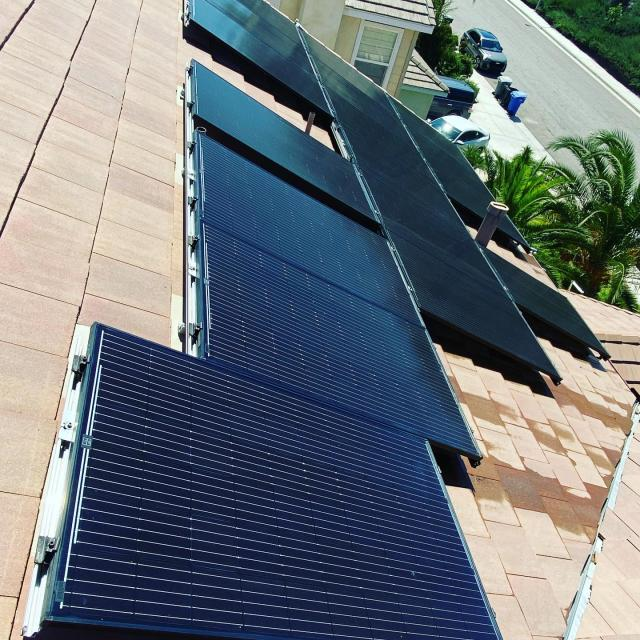clean-solar-panel: (25, 325, 500, 640), (192, 64, 464, 449), (314, 59, 558, 379)
